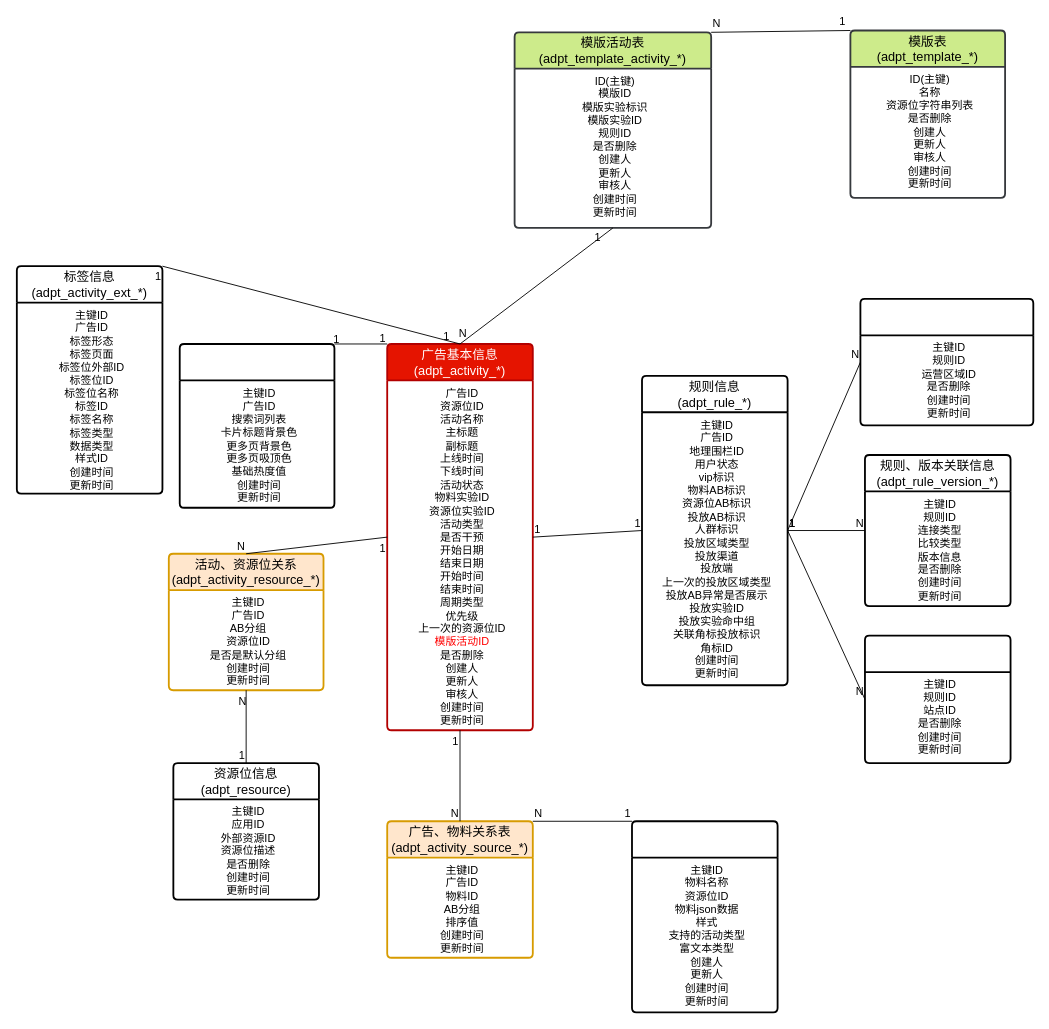
The diagram is 1049 pixels wide and 1029 high, and some of its shapes have lost their labels. Here are the shapes that lost their labels. From the top down, the box of each, then its label:
(859, 298, 1034, 426): 规则、运营区域关联信息 (adpt_rule_station_groups_*)
(178, 343, 335, 508): 话题榜信息 (adpt_activity_ext_topic_*)
(864, 634, 1011, 763): 规则、站点关联信息 (adpt_rule_station_*)
(631, 820, 778, 1013): 物料信息 (adpt_source_*)
